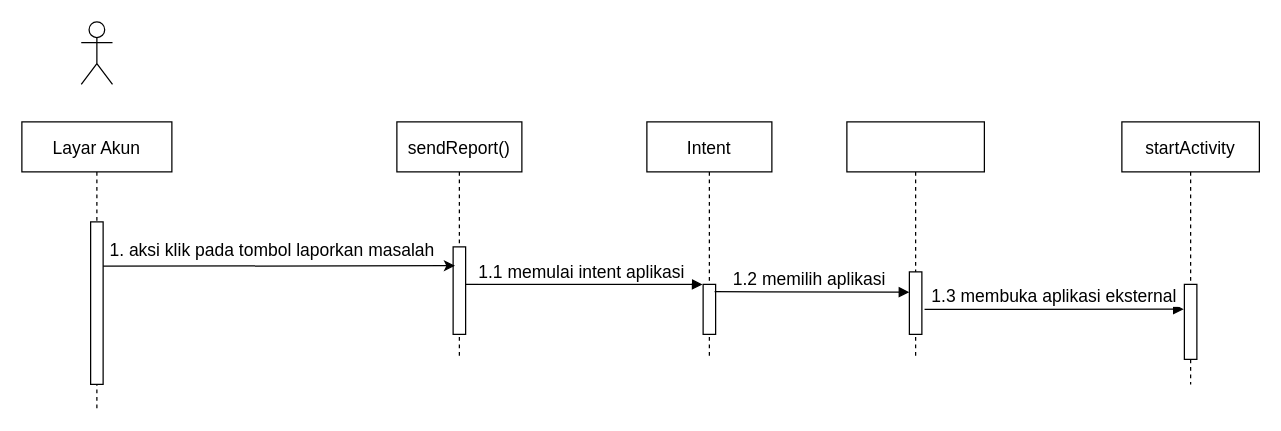
Image size: 1281x431. Some labels were removed from this diagram. Each missing label, with the centre of its shape:
":User" belongs at (96,52).
"Action_View" belongs at (915,240).
